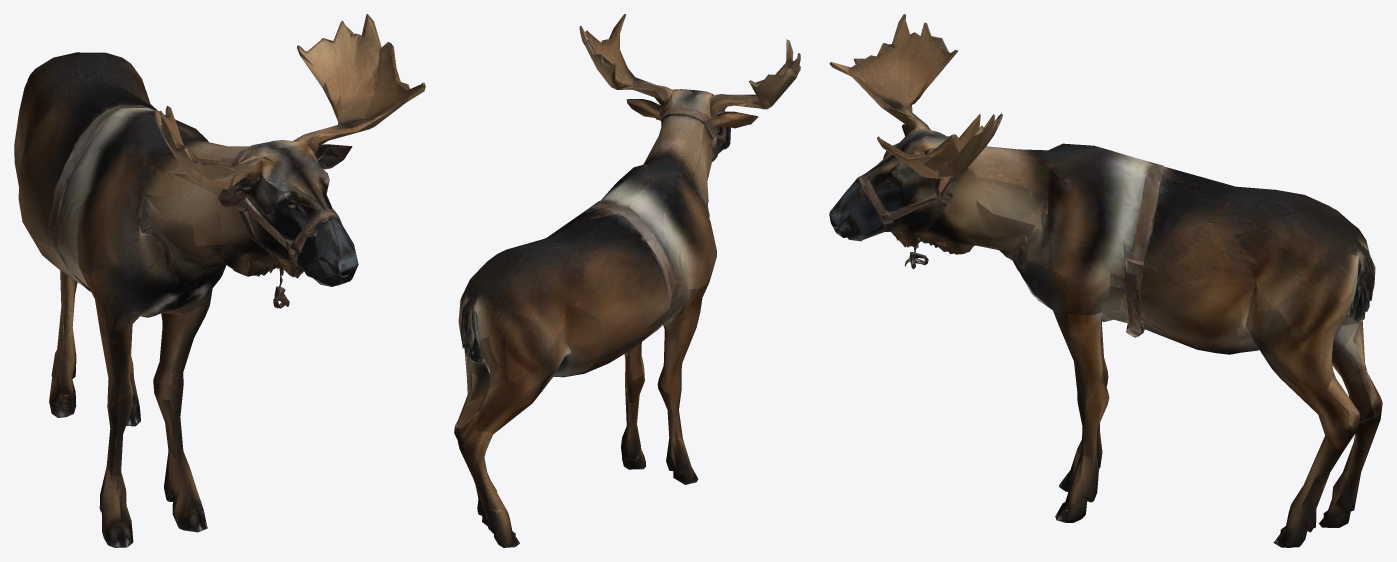
The model's file is moose.glb.
3 renders of one model, left to right at view 1: azimuth 30°, elevation 25°; view 2: azimuth 150°, elevation 25°; view 3: azimuth 270°, elevation 25°, orthographic. The views are drawn at different scales.
Parts seen in each view (by area): view 1: mesh_node; view 2: mesh_node; view 3: mesh_node.
Boxes of the visible parts, x1=… form: mesh_node: x1=14, y1=14, x2=425, y2=547; mesh_node: x1=454, y1=14, x2=800, y2=547; mesh_node: x1=829, y1=14, x2=1382, y2=547.
Size of the model in its own units: 0.9068 by 1.73 by 1.9.
1 material, 1 textured.
